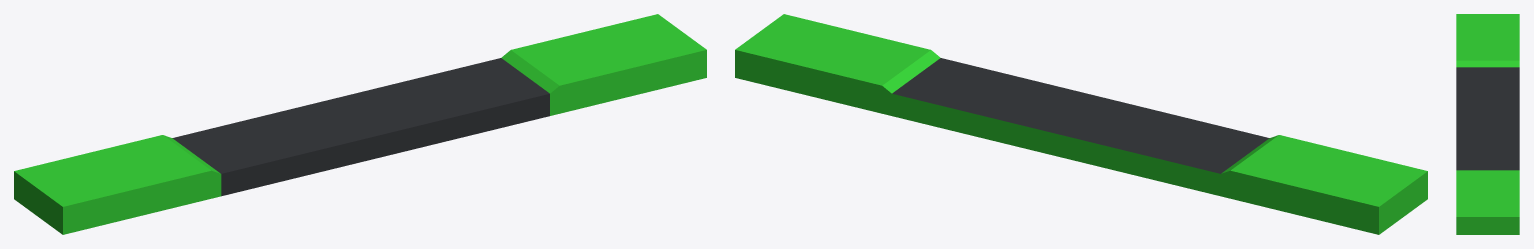
Rendered from Road.fbx.
The picture shows the model from 3 angles, left to right: view 1: azimuth 30°, elevation 25°; view 2: azimuth 150°, elevation 25°; view 3: azimuth 270°, elevation 25°; orthographic projection. The views are drawn at different scales.
Parts seen in each view (by area): view 1: Road; view 2: Road; view 3: Road.
Boxes of the visible parts, x1,y1,x2,y2 form: Road: [14, 14, 706, 234]; Road: [735, 14, 1427, 234]; Road: [1456, 14, 1519, 234].
Size of the model in its own units: 4000 by 166 by 526.
